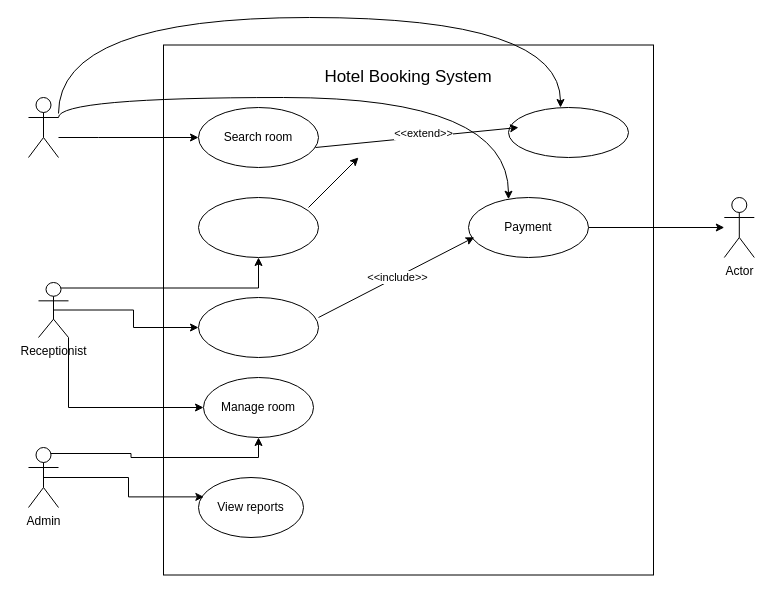
Image size: 772x593. Some labels were removed from this diagram. The shapes that lost their labels are listed below. From the top down, each one's centre as x and y in pixels, then its label:
At point (43, 127): "Customer".
At point (568, 132): "View Room Details".
At point (258, 227): "Cancel booking".
At point (258, 327): "Book room".
